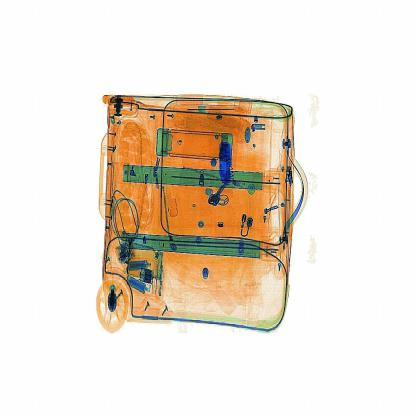scissors: (212, 129, 240, 188)
